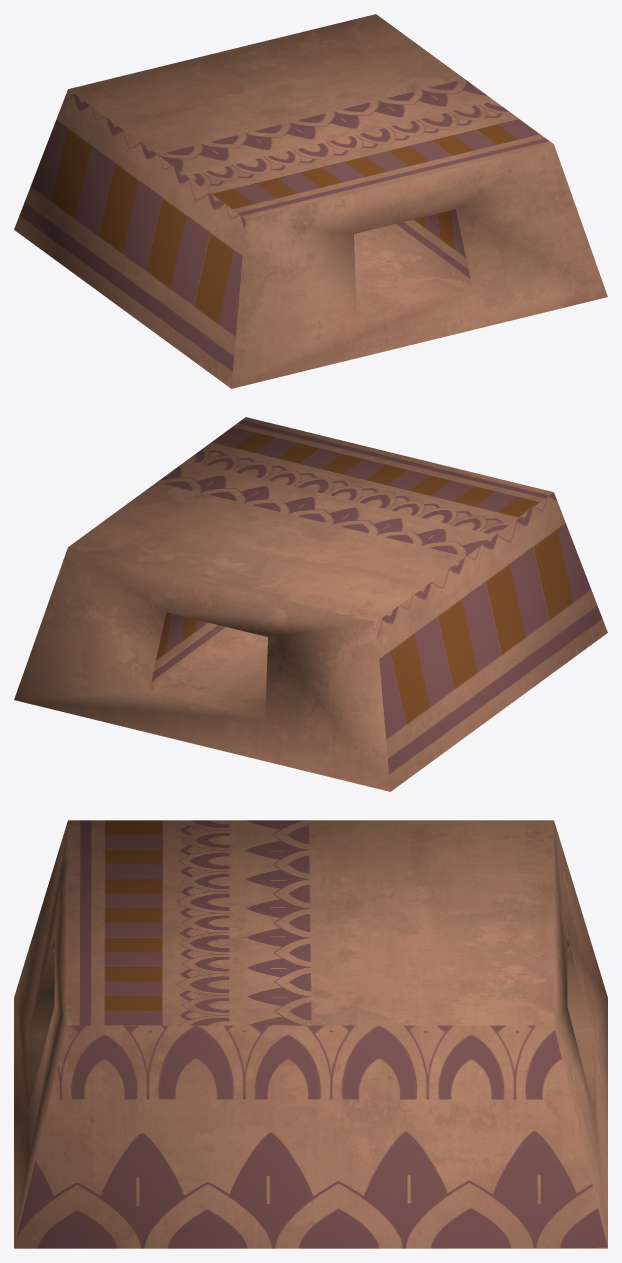
The model's file is templepart2.fbx.
The picture shows the model from 3 angles, top to bottom: view 1: azimuth 30°, elevation 25°; view 2: azimuth 150°, elevation 25°; view 3: azimuth 270°, elevation 25°; orthographic projection. The views are drawn at different scales.
Visible parts, largest first — view 1: Object006; view 2: Object006; view 3: Object006.
Boxes of the visible parts, box(x1,y1,x2,y2) form: Object006: box(14, 14, 607, 388); Object006: box(14, 417, 607, 791); Object006: box(14, 820, 607, 1248).
Bounding box in the file's own units: 4717 × 4717 × 1756.
